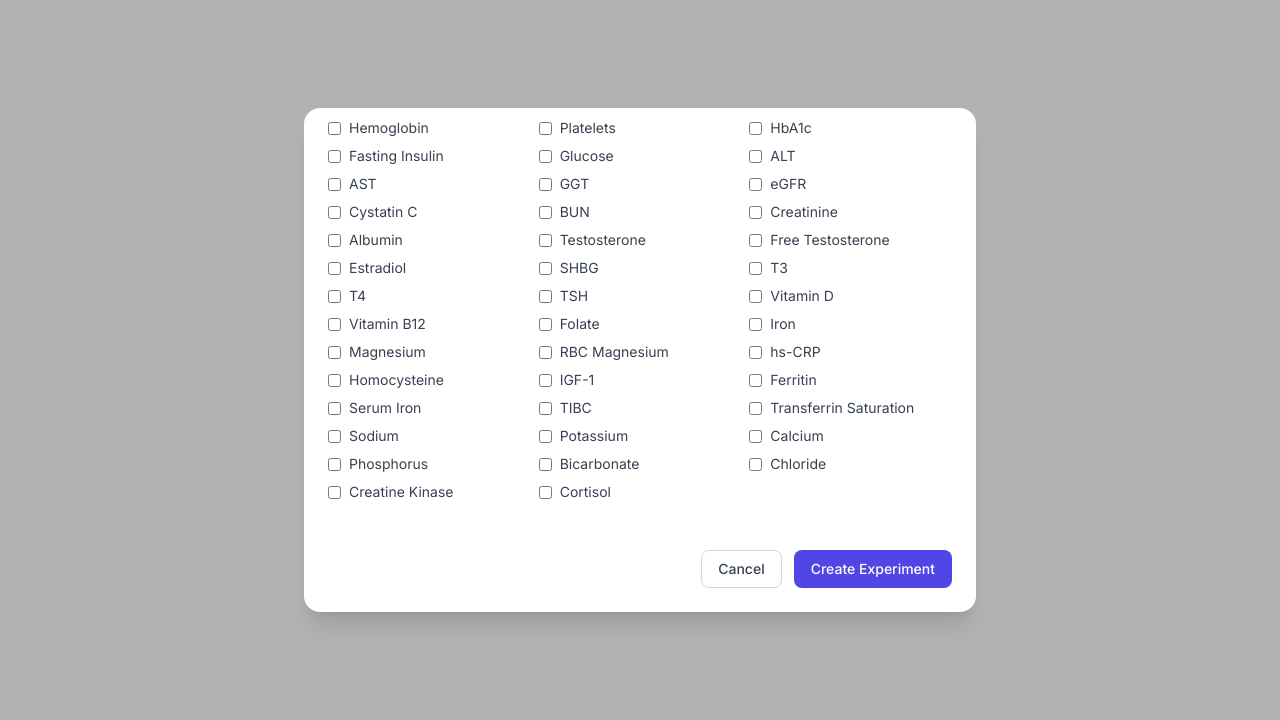
Test: AddExperimentModal › handles error display and clearing
(page scrolled)
Click the button "Create Experiment".
click(873, 569)  # box 794,550 -> 952,588
(page scrolled)
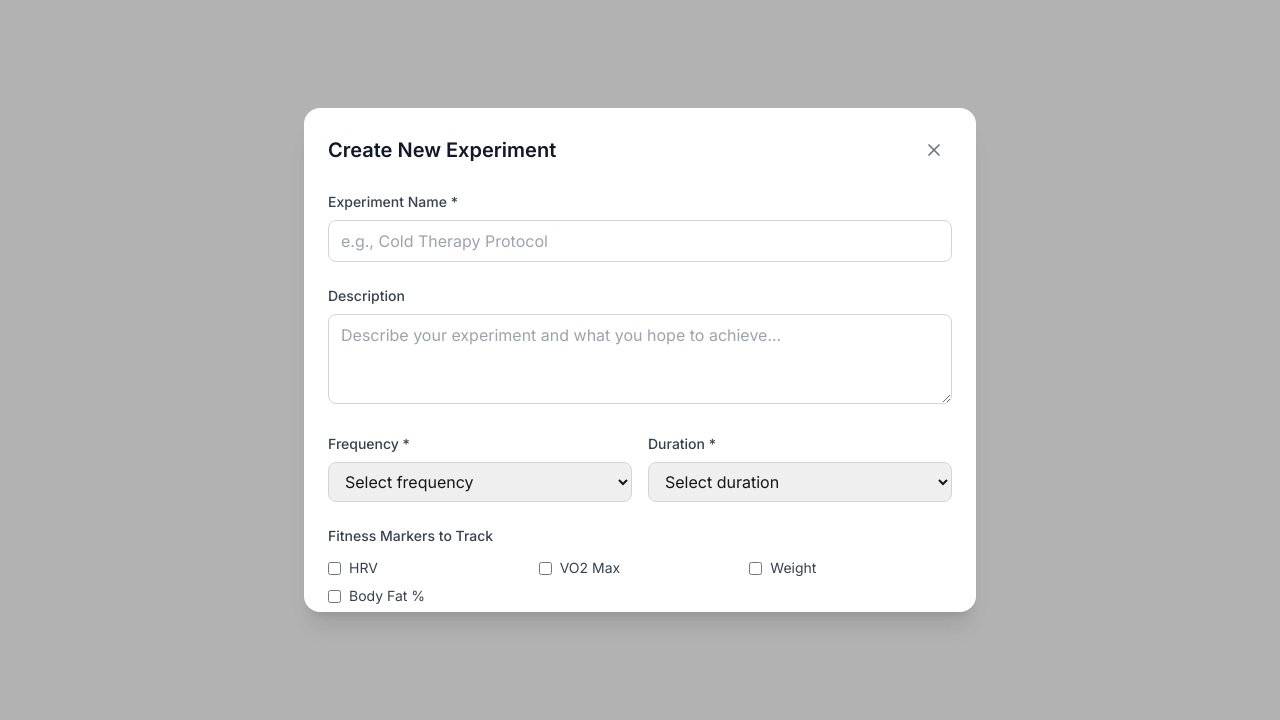
Start typing to clear error
Type "Test" into the field labelled "Experiment Name *".
click(640, 241); type("Test")  # box 328,220 -> 952,262
(page scrolled)
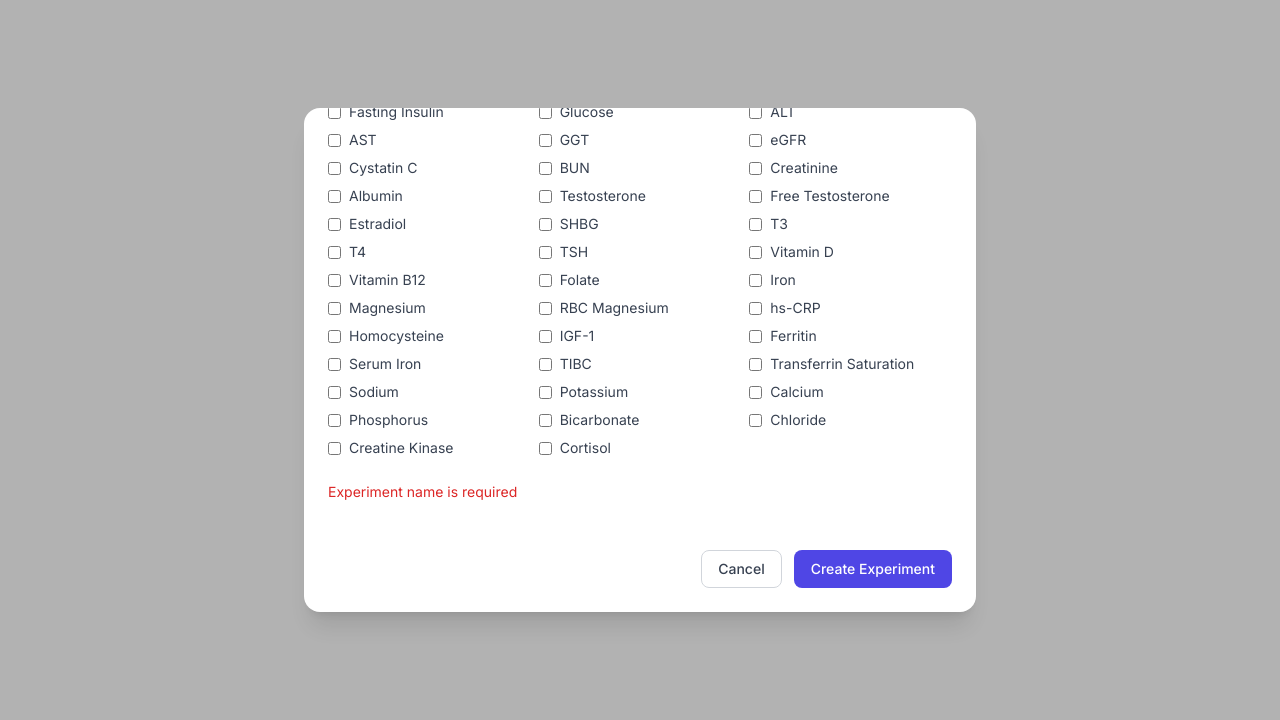
Click the button "Create Experiment".
click(873, 569)  # box 794,550 -> 952,588
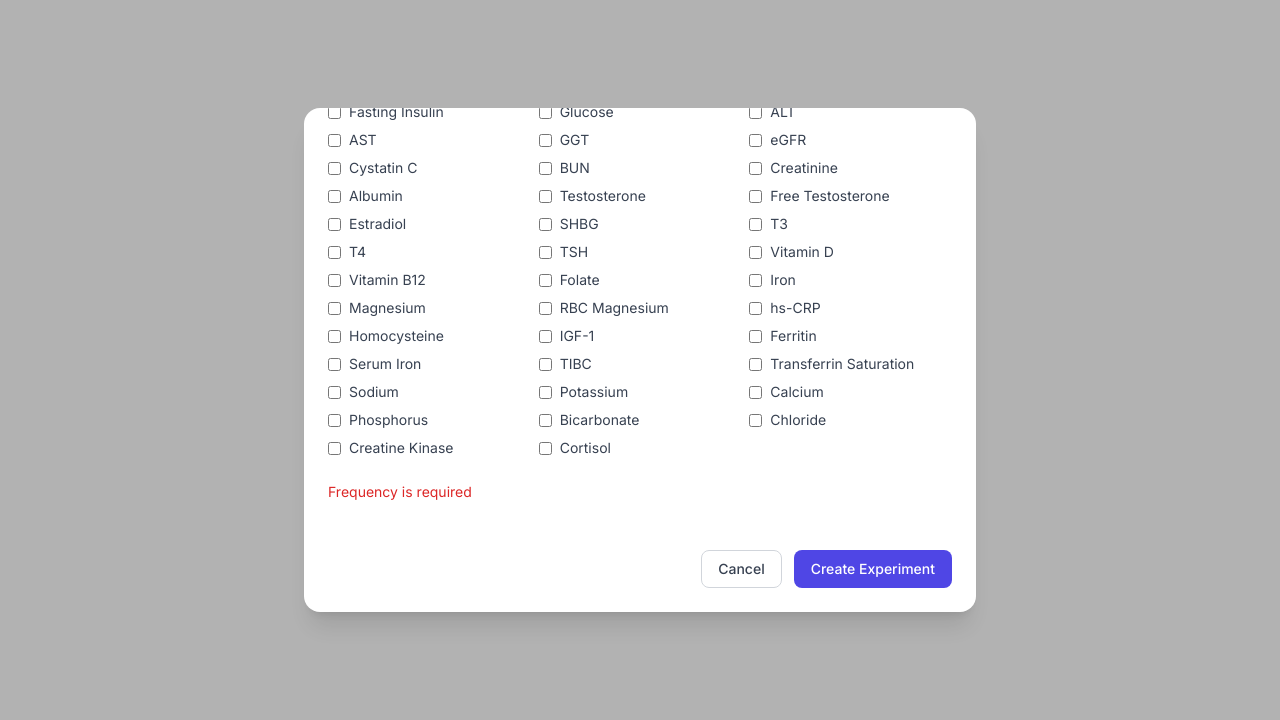
Now the text "Experiment name is required" is gone
